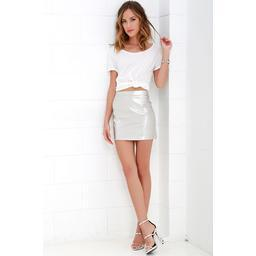Tshirt: (108, 43, 162, 90)
skirt: (111, 92, 157, 140)
